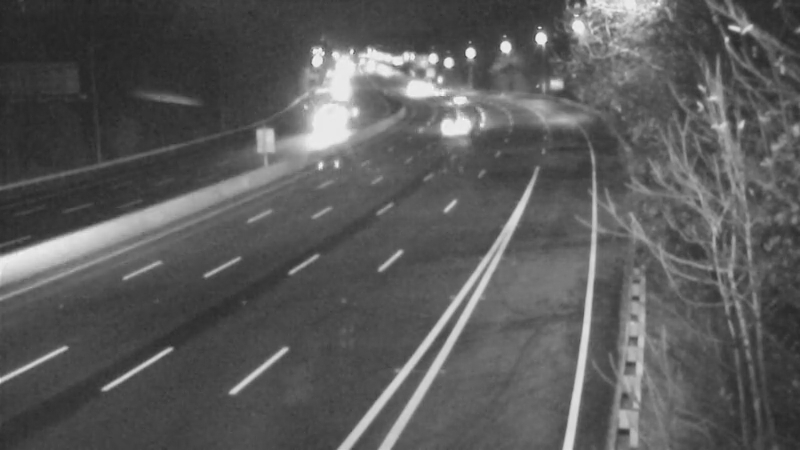vehicle: (387, 68, 437, 118), (414, 71, 464, 121), (433, 78, 483, 128), (435, 97, 485, 147), (297, 101, 347, 151)
